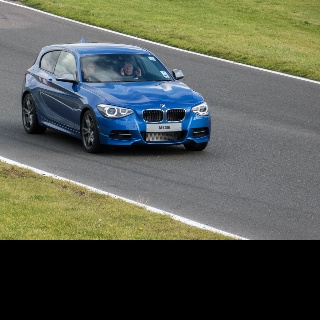without_mask: (124, 62, 133, 75), (87, 63, 95, 74)
